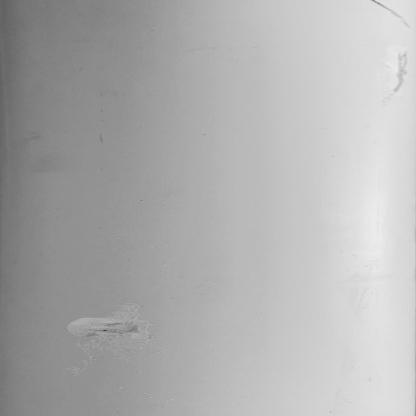sunshang: (68, 304, 155, 360), (378, 47, 413, 108), (368, 1, 412, 28)
